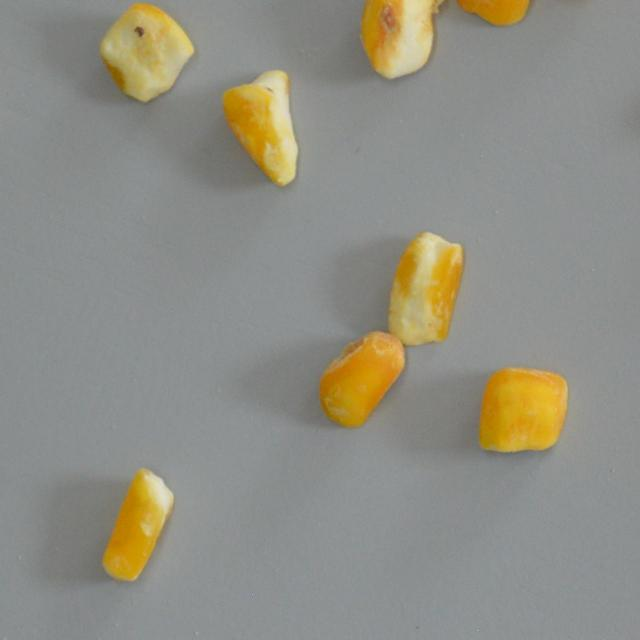dañado: (472, 364, 575, 460), (314, 330, 404, 428), (356, 0, 449, 84)
estandar: (82, 462, 199, 582)
pelicula: (386, 226, 474, 346), (447, 0, 534, 29)
punto_negro: (100, 0, 198, 107), (218, 65, 296, 190)
